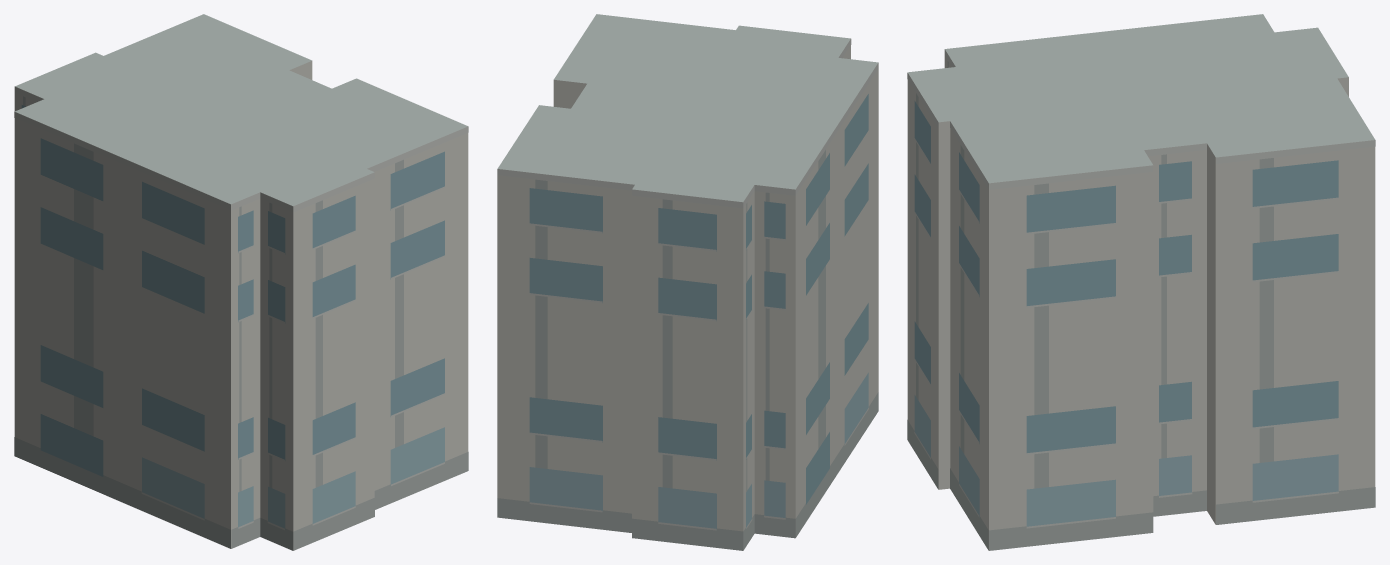
The model's file is survey-upis-32715180.glb.
The picture shows the model from 3 angles, left to right: view 1: azimuth 30°, elevation 25°; view 2: azimuth 150°, elevation 25°; view 3: azimuth 270°, elevation 25°; orthographic projection. The views are drawn at different scales.
Parts seen in each view (by area): view 1: survey-upis-32715180.tmp; view 2: survey-upis-32715180.tmp; view 3: survey-upis-32715180.tmp.
Part boxes in pixels (<box>): survey-upis-32715180.tmp: <box>14,14,468,550</box>; survey-upis-32715180.tmp: <box>497,14,878,550</box>; survey-upis-32715180.tmp: <box>907,14,1375,550</box>.
Bounding box in the file's own units: 13.2 × 13.35 × 15.42.
